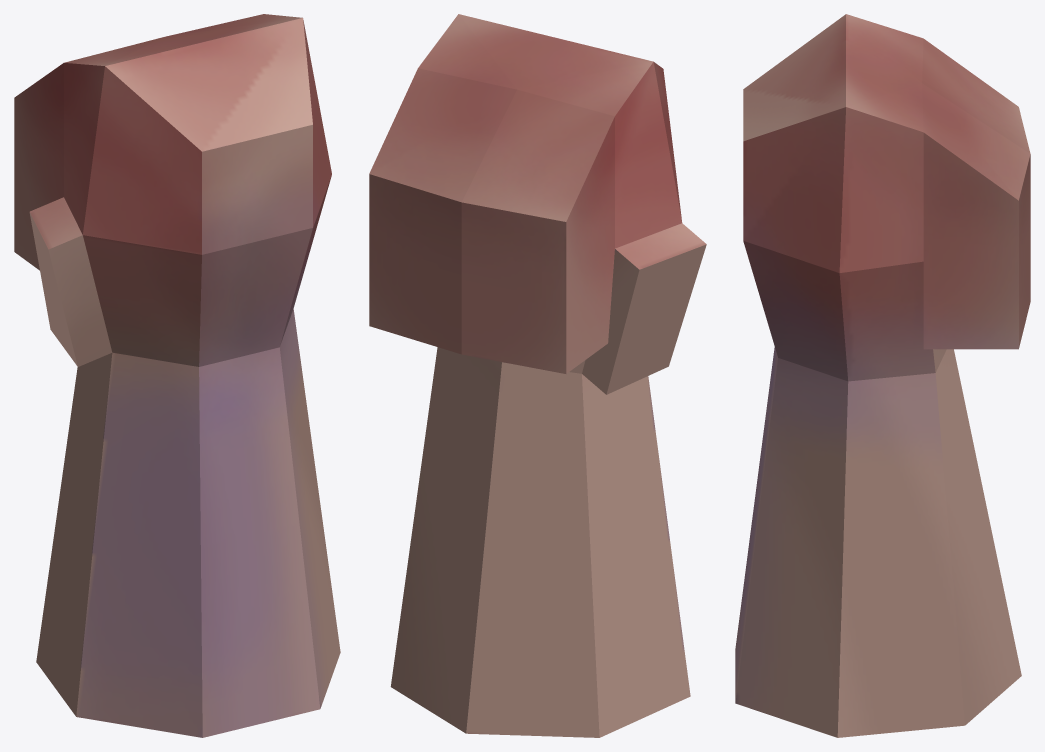
The model's file is fist.glb.
3 renders of one model, left to right at view 1: azimuth 30°, elevation 25°; view 2: azimuth 150°, elevation 25°; view 3: azimuth 270°, elevation 25°, orthographic. The views are drawn at different scales.
Parts seen in each view (by area): view 1: Cylinder; view 2: Cylinder; view 3: Cylinder.
Part boxes in pixels (<box>): Cylinder: <box>14,14,340,737</box>; Cylinder: <box>369,14,706,737</box>; Cylinder: <box>735,14,1030,737</box>.
Bounding box in the file's own units: 1.71 × 3.65 × 1.59.
1 material, 1 textured.
